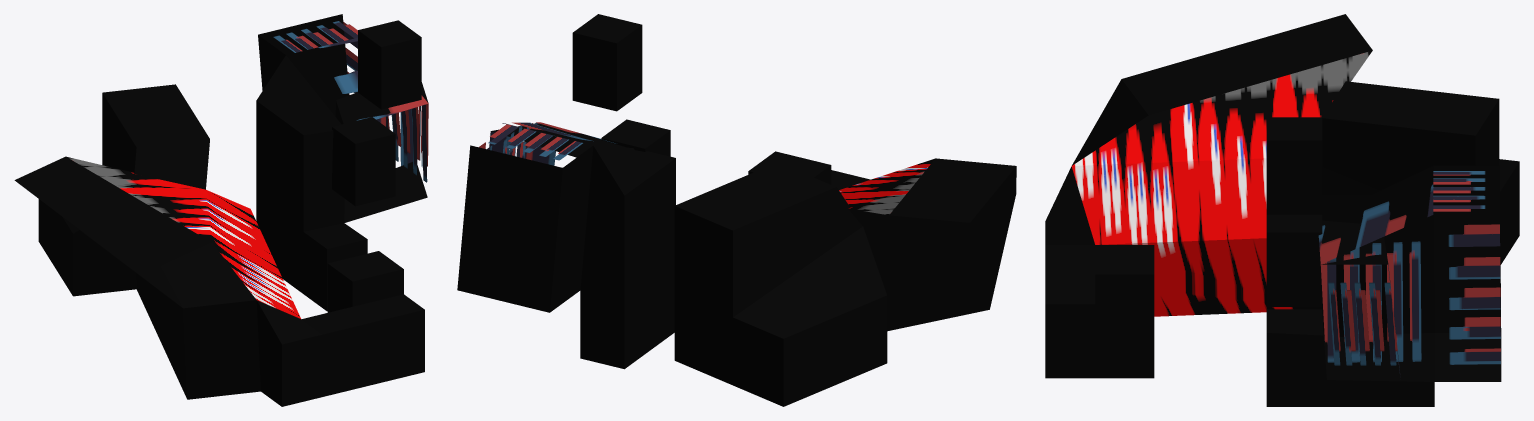
File: level1.obj
The picture shows the model from 3 angles, left to right: view 1: azimuth 30°, elevation 25°; view 2: azimuth 150°, elevation 25°; view 3: azimuth 270°, elevation 25°; orthographic projection. The views are drawn at different scales.
Parts seen in each view (by area): view 1: Cube; view 2: Cube; view 3: Cube.
Boxes of the visible parts, box(x1,y1,x2,y2) form: Cube: box(14, 14, 428, 406); Cube: box(457, 14, 1016, 406); Cube: box(1045, 14, 1519, 406).
Size of the model in its own units: 21 by 11.85 by 17.11.
Materials: 2 (2 with a texture image).
